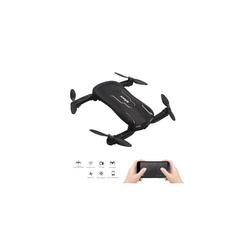drone: (68, 70, 177, 148)
